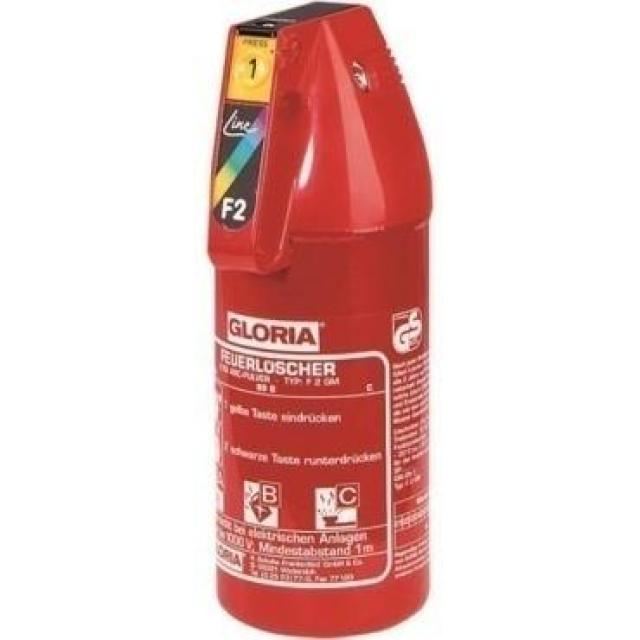fire_extinguisher: (196, 0, 447, 638)
